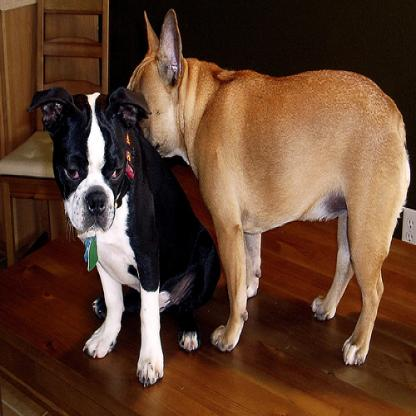French_bulldog: (126, 7, 409, 366), (26, 85, 220, 389)
